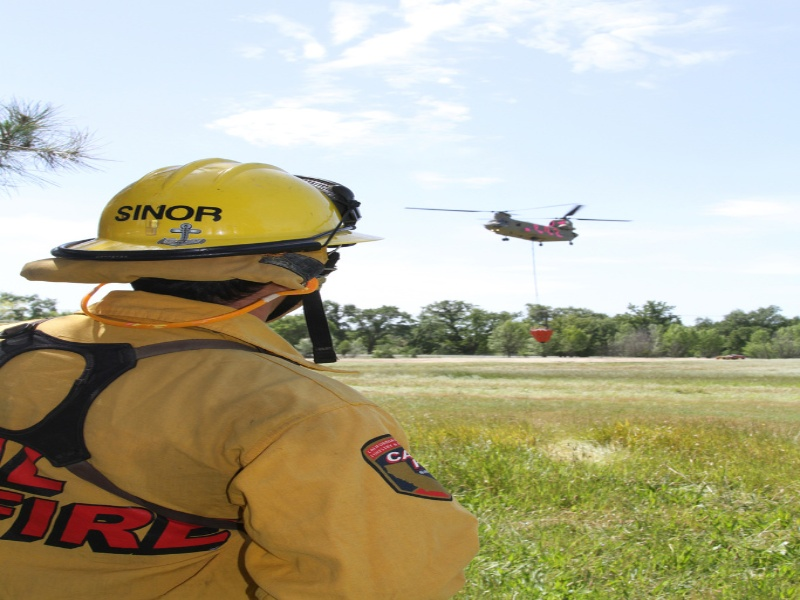Baret: (56, 157, 367, 257)
